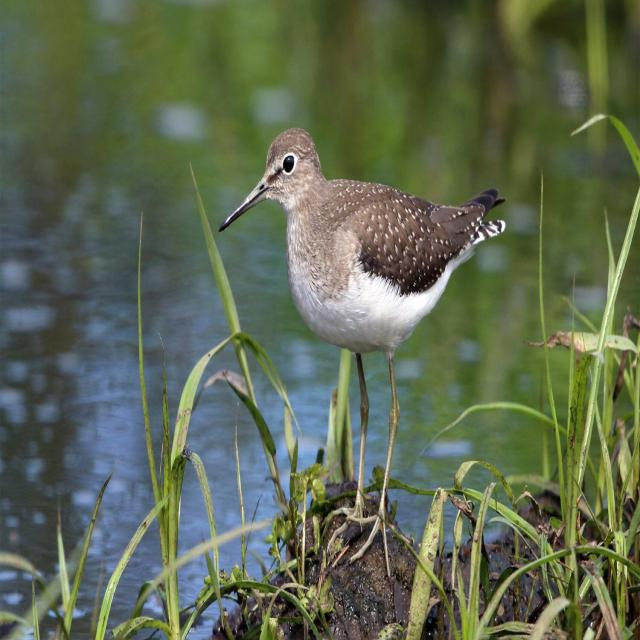sandpiper: (219, 128, 506, 579)
